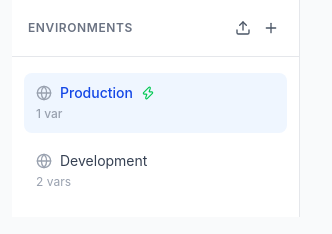
Test: EnvironmentList › opens a context menu with all expected items on right-click
Right-click the text "Development" at (104, 161), box [60,151,147,171]
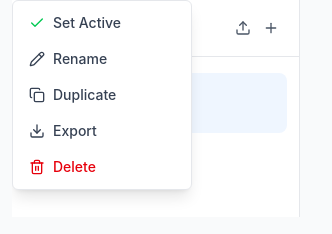
Check: the text "Set Active" is shown, box [53,13,121,33]
Check: the text "Rename" is shown, box [53,49,107,69]
Check: the text "Duplicate" is shown, box [53,85,116,105]
